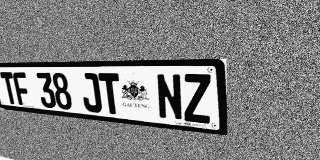3: (36, 72, 57, 109)
8: (51, 73, 73, 110)
F: (12, 72, 32, 106)
J: (79, 73, 103, 113)
N: (155, 74, 184, 121)
T: (98, 73, 123, 115), (0, 72, 19, 105)
Z: (182, 74, 212, 124)
